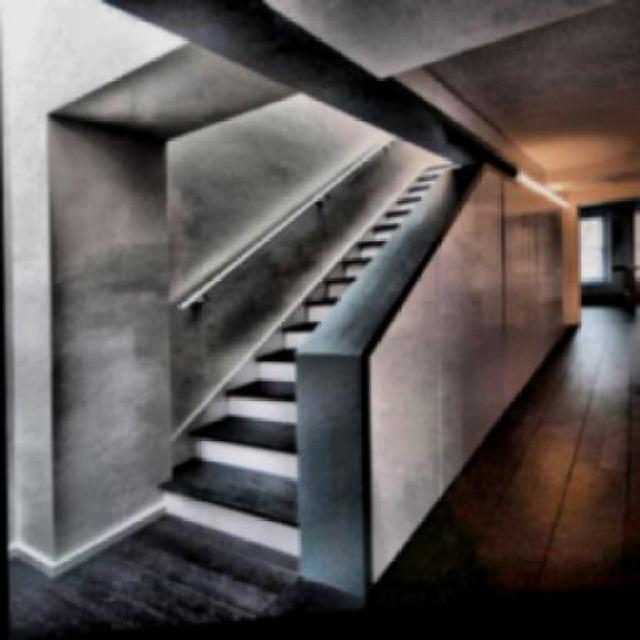stair: (157, 157, 460, 617)
